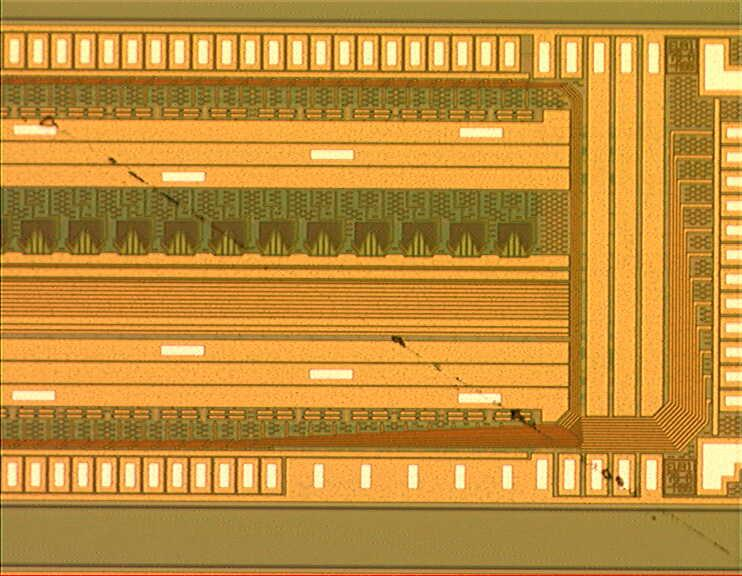SCRATCH: (7, 93, 738, 565)
